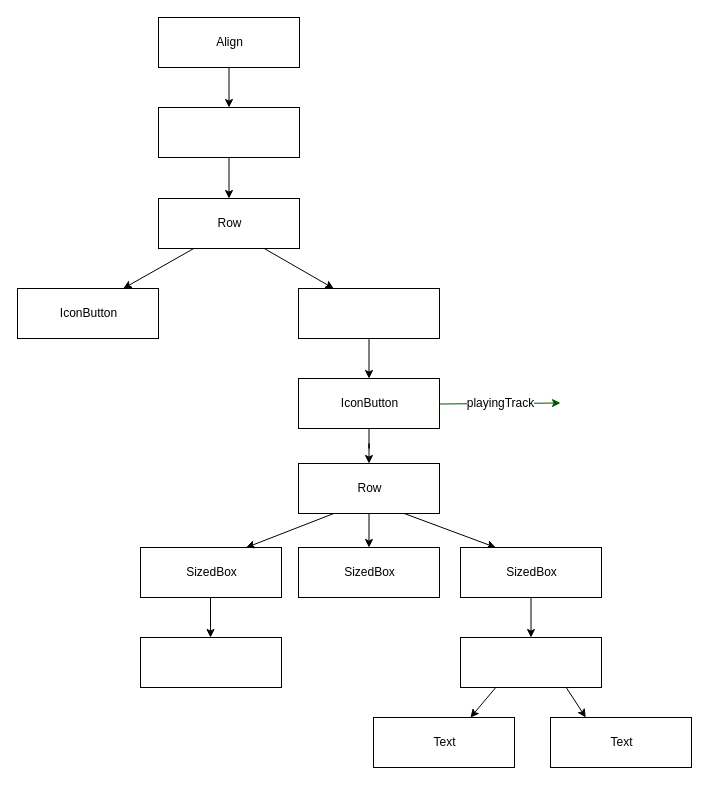
Some shapes in this 709 by 785 pixel diagram are drawn without their labels. Here are the shapes that lost their labels. From the top down, the centre of each, then its label:
At (x=229, y=132): "Container".
At (x=369, y=313): "Expanded".
At (x=211, y=662): "Image".
At (x=531, y=662): "Column".
